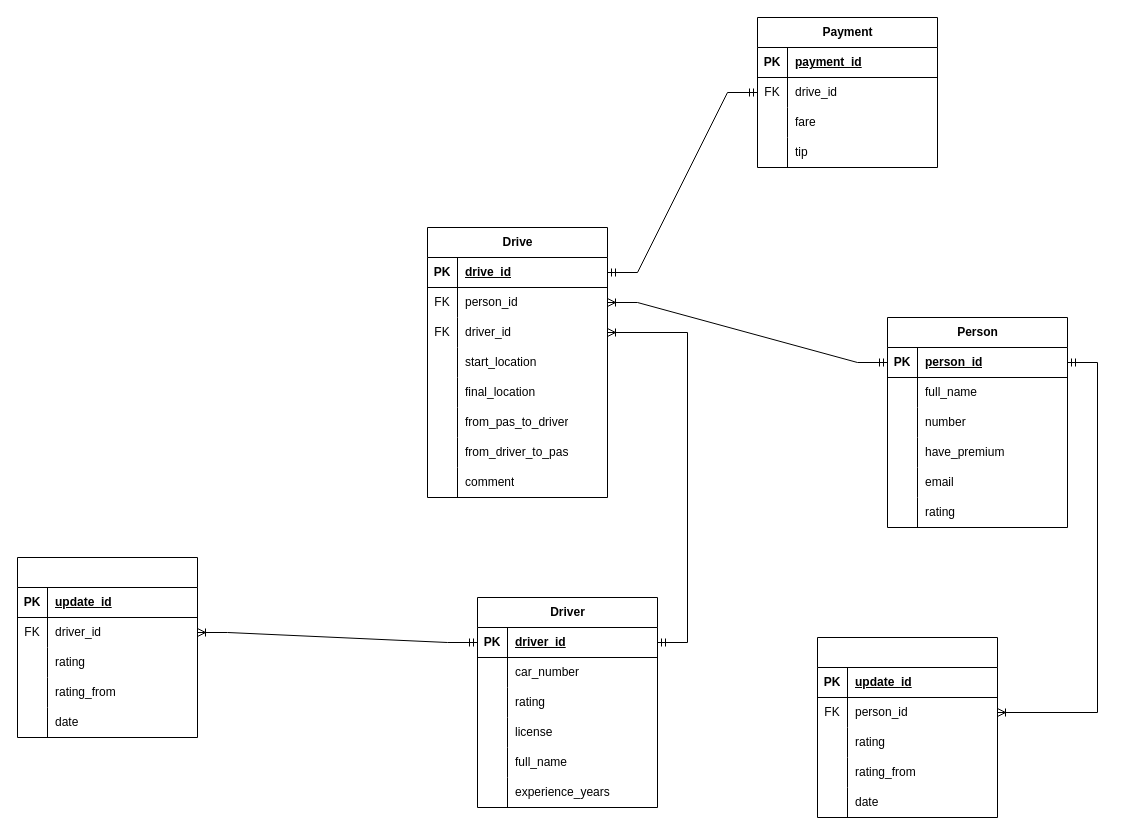
Some shapes in this 1124 by 835 pixel diagram are drawn without their labels. The shapes that lost their labels are listed below. From the top down, each one's box as (x1, y1, x2, y2) in pixels, then its label:
(16, 556, 198, 738): Driver_Rating_History
(816, 636, 998, 818): Person_Rating_History
